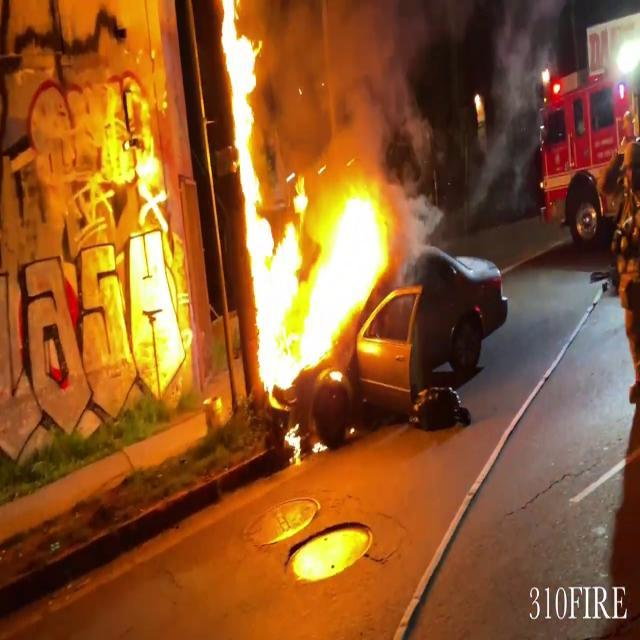Fire: (242, 158, 397, 392), (214, 0, 265, 190)
Smoke: (265, 0, 431, 189)
